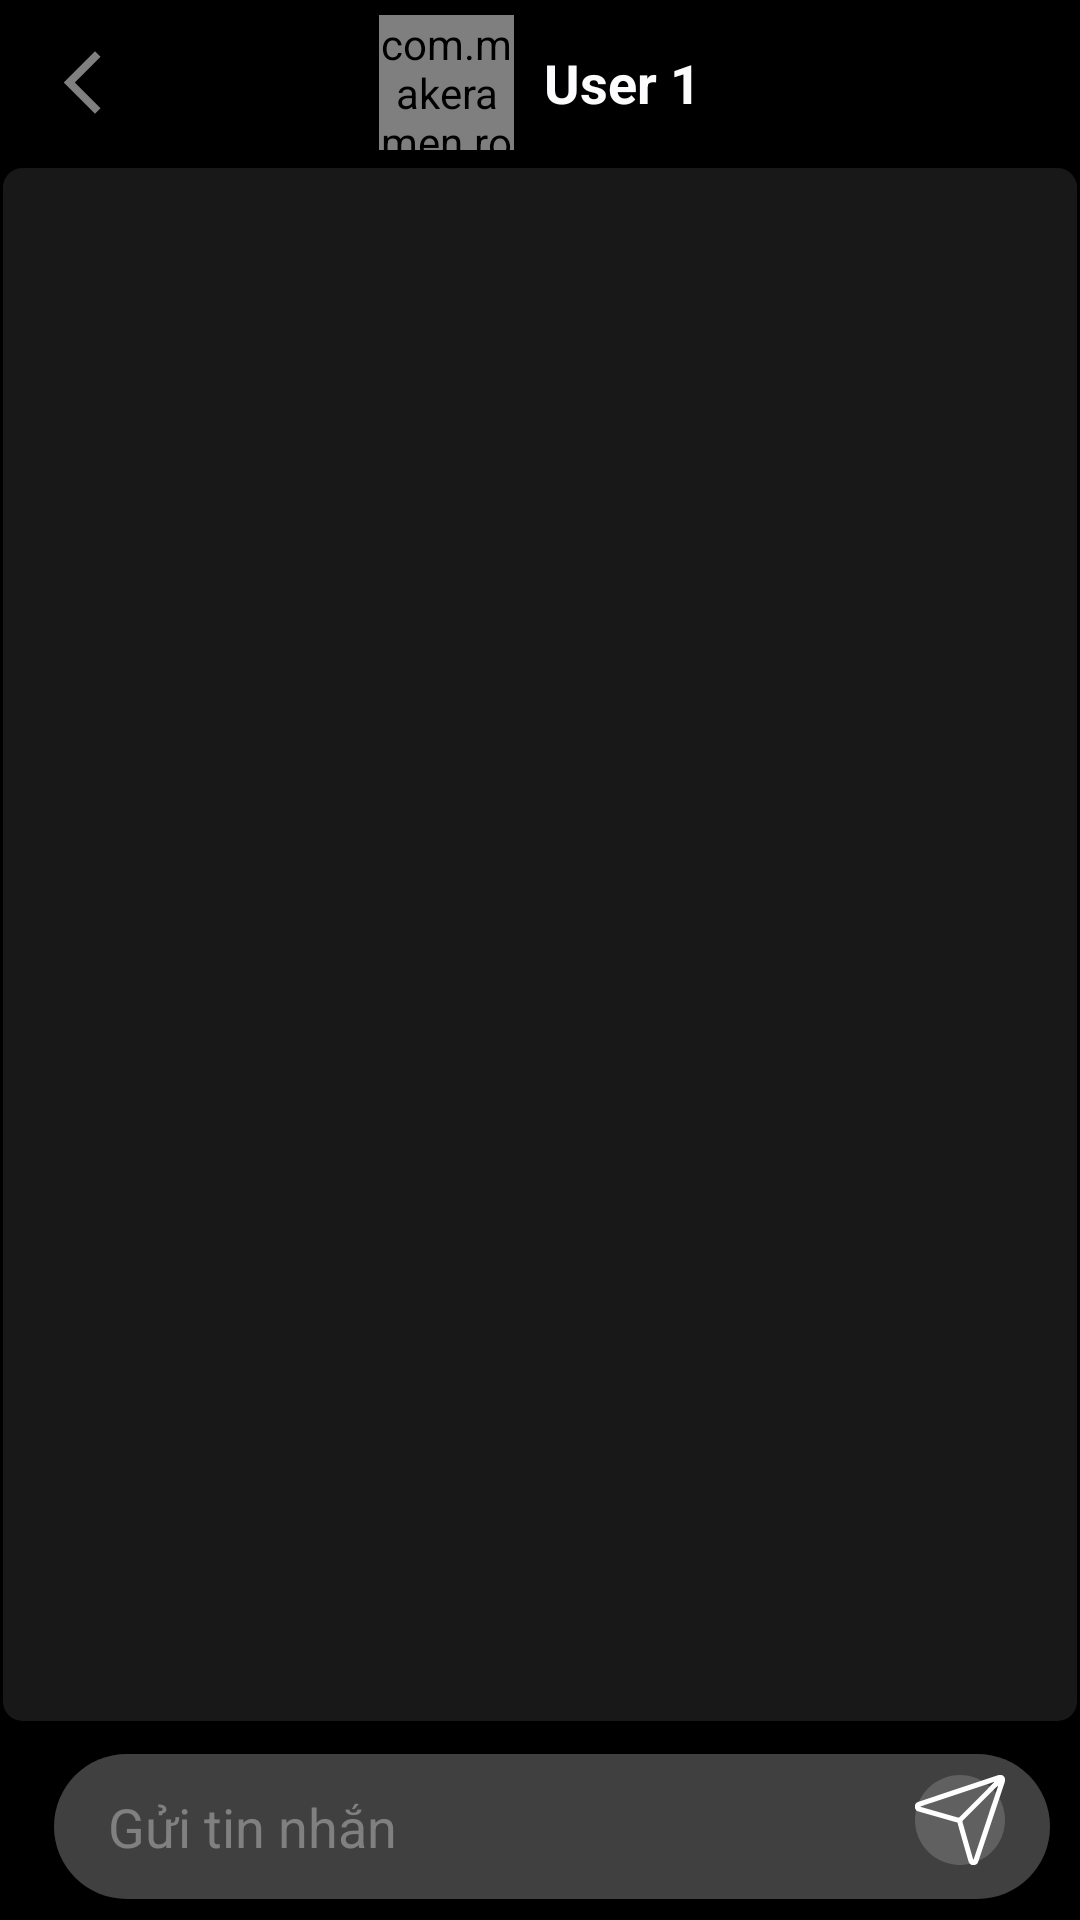

Icons on this 1080 x 1920 Android screen, each with the point to tap as (x=x, y=y):
back: (x=82, y=82)
send: (x=960, y=1820)
